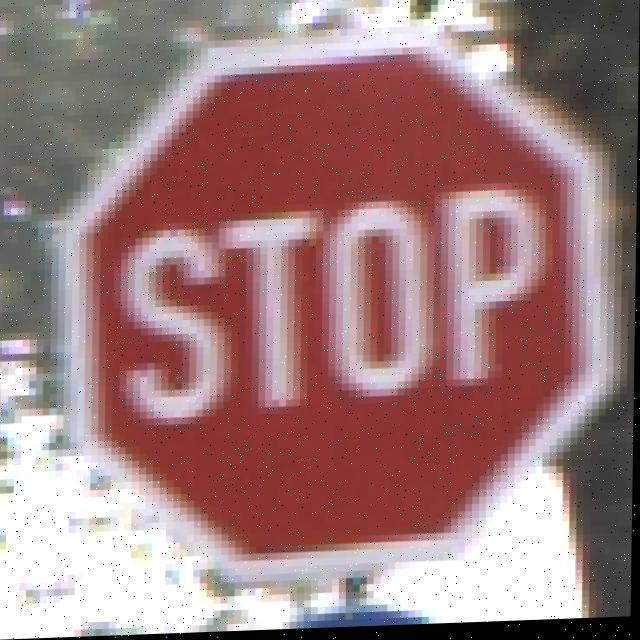stop: (59, 38, 633, 581)
